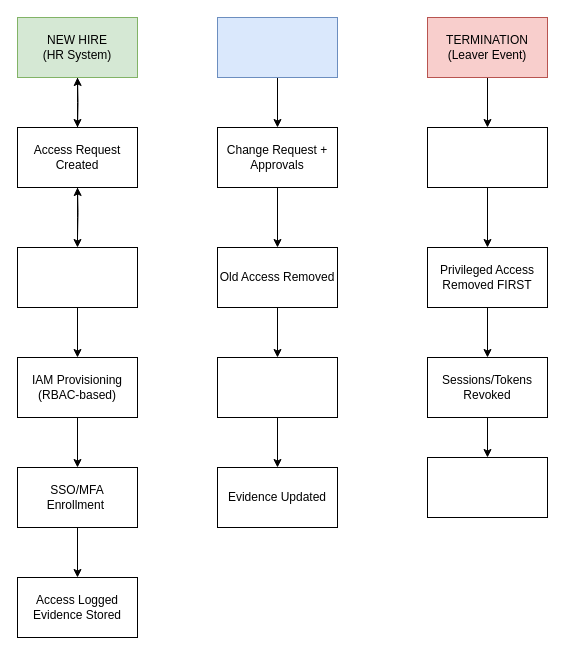
Image size: 565x655. Some labels were removed from this diagram. The shapes that lost their labels are listed below. From the top down, each one's centre as x and y in pixels, then its label:
(277,47): ROLE CHANGE (Mover Event)
(487,157): Immediate Deprovisioning
(77,277): Manager Approval
(277,387): New Access Provisioned
(487,487): Confirmation Logged + Stored
